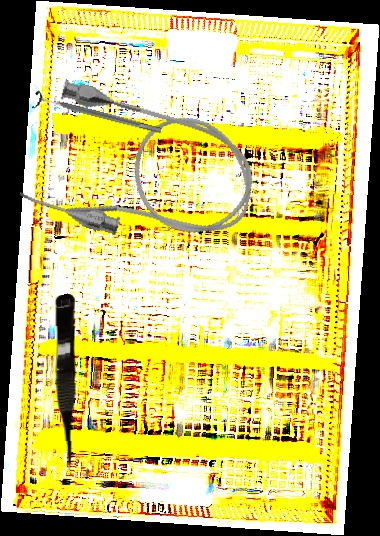Cannula: (15, 75, 268, 267)
Fixation Ring: (31, 89, 164, 141)
Micro Scissor: (51, 294, 79, 473)
